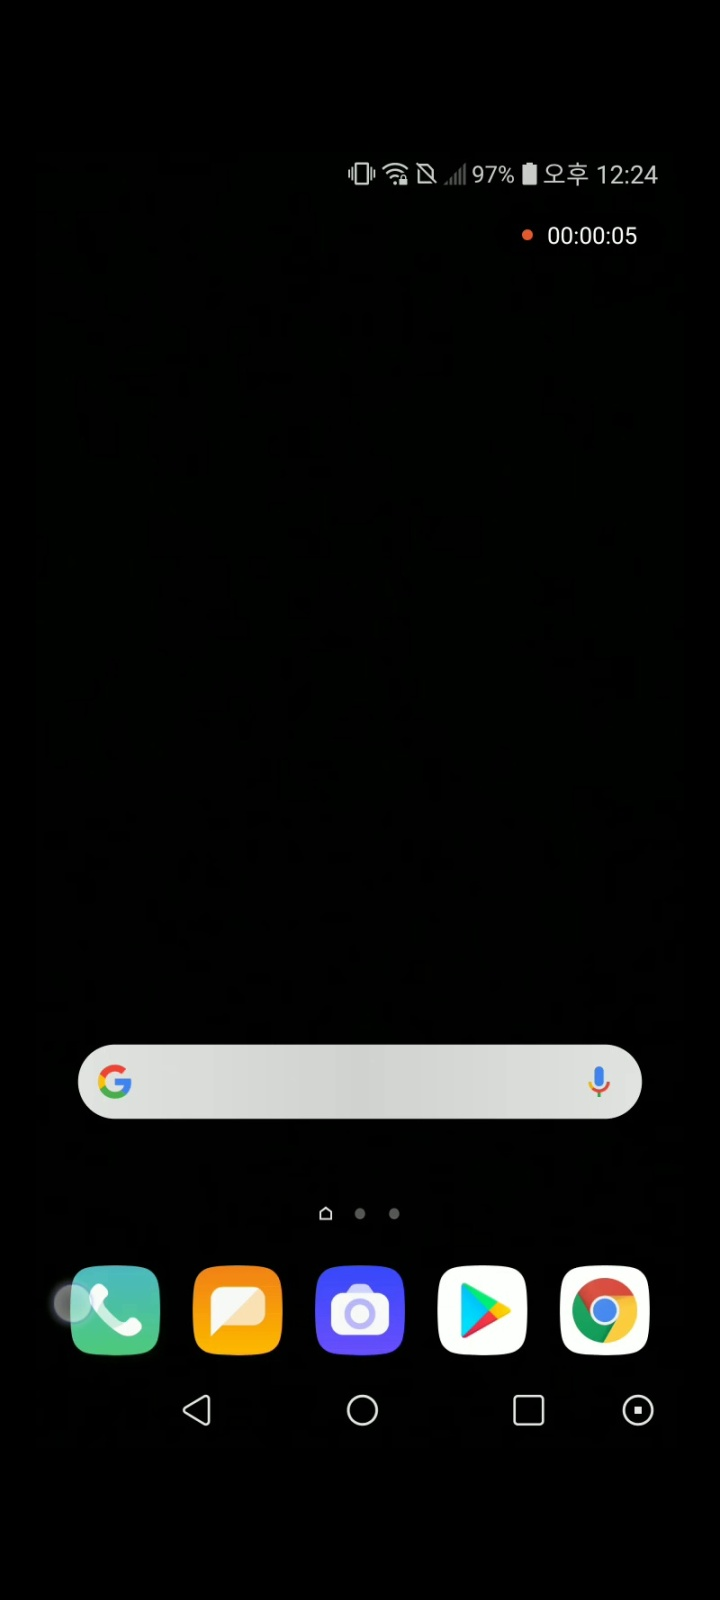Cursor: (50, 1281, 95, 1326)
